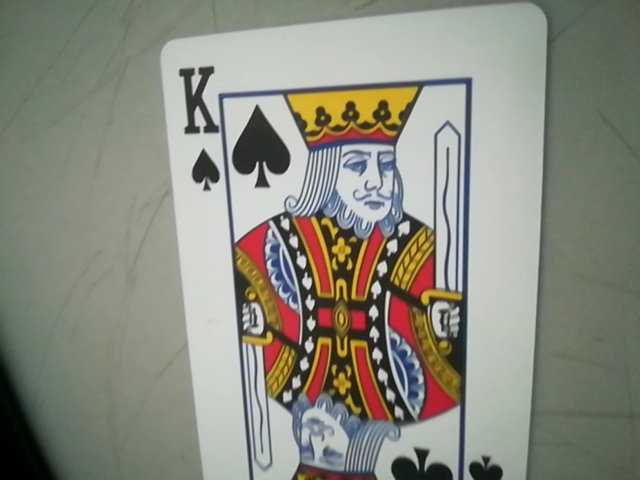ht k: (169, 52, 235, 195)
